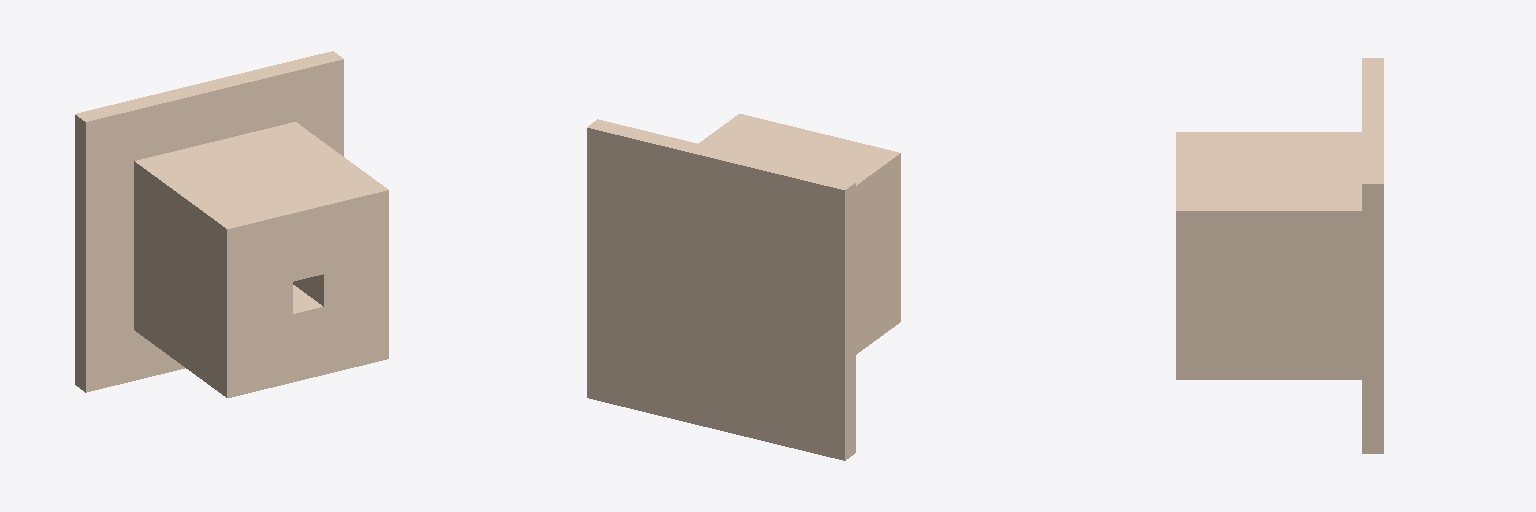
Rendered from industreal_tray_pick_rectangular_peg_4mm.obj.
3 renders of one model, left to right at view 1: azimuth 30°, elevation 25°; view 2: azimuth 150°, elevation 25°; view 3: azimuth 270°, elevation 25°, orthographic.
Visible parts, largest first — view 1: industreal_tray_pick_rectangular_peg_4mm; view 2: industreal_tray_pick_rectangular_peg_4mm; view 3: industreal_tray_pick_rectangular_peg_4mm.
Part boxes in pixels (x1,y1,x2,y2): industreal_tray_pick_rectangular_peg_4mm: (75, 51, 388, 397); industreal_tray_pick_rectangular_peg_4mm: (587, 114, 900, 460); industreal_tray_pick_rectangular_peg_4mm: (1176, 58, 1383, 453).
Bounding box in the file's own units: 0.04 × 0.04 × 0.028.